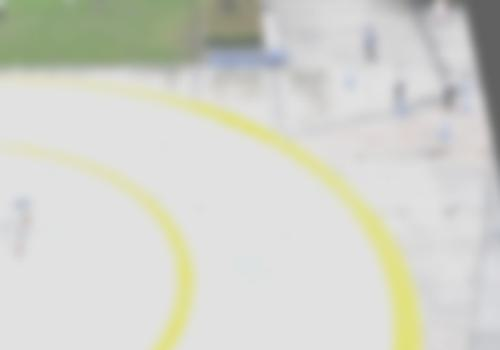Apron: (1, 122, 216, 347)
